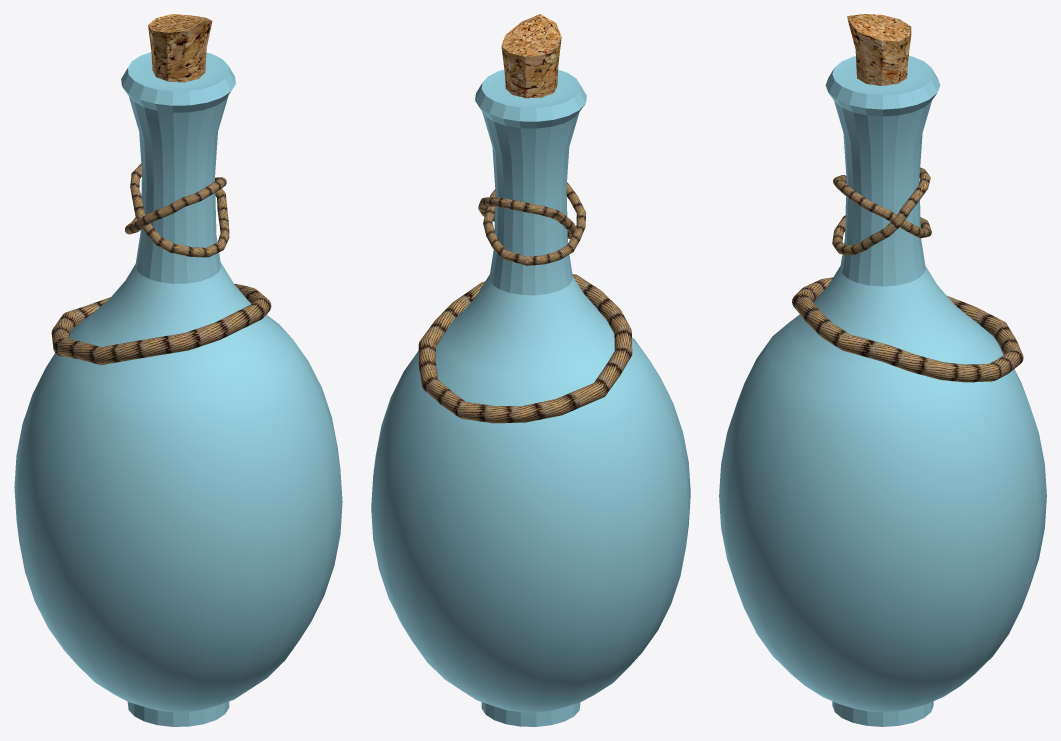
The model's file is potion.obj.
3 renders of one model, left to right at view 1: azimuth 30°, elevation 25°; view 2: azimuth 150°, elevation 25°; view 3: azimuth 270°, elevation 25°, orthographic. The views are drawn at different scales.
Parts seen in each view (by area): view 1: pSphere1, pTorus3, pCylinder1, pTorus2, pTorus1; view 2: pSphere1, pTorus3, pCylinder1, pTorus1, pTorus2; view 3: pSphere1, pTorus3, pCylinder1, pTorus2, pTorus1.
Part boxes in pixels (x1=…): pSphere1: x1=14, y1=52, x2=342, y2=726; pTorus3: x1=51, y1=283, x2=271, y2=365; pCylinder1: x1=148, y1=14, x2=212, y2=82; pTorus2: x1=130, y1=163, x2=229, y2=257; pTorus1: x1=125, y1=177, x2=226, y2=234; pSphere1: x1=371, y1=70, x2=690, y2=726; pTorus3: x1=418, y1=274, x2=632, y2=423; pCylinder1: x1=501, y1=14, x2=561, y2=98; pTorus1: x1=483, y1=182, x2=585, y2=265; pTorus2: x1=478, y1=197, x2=576, y2=238; pSphere1: x1=719, y1=56, x2=1046, y2=726; pTorus3: x1=792, y1=277, x2=1023, y2=382; pCylinder1: x1=847, y1=14, x2=911, y2=85; pTorus2: x1=832, y1=167, x2=930, y2=255; pTorus1: x1=833, y1=175, x2=931, y2=238.
Size of the model in its own units: 2 by 4.68 by 2.
Materials: 4 (4 with a texture image).
